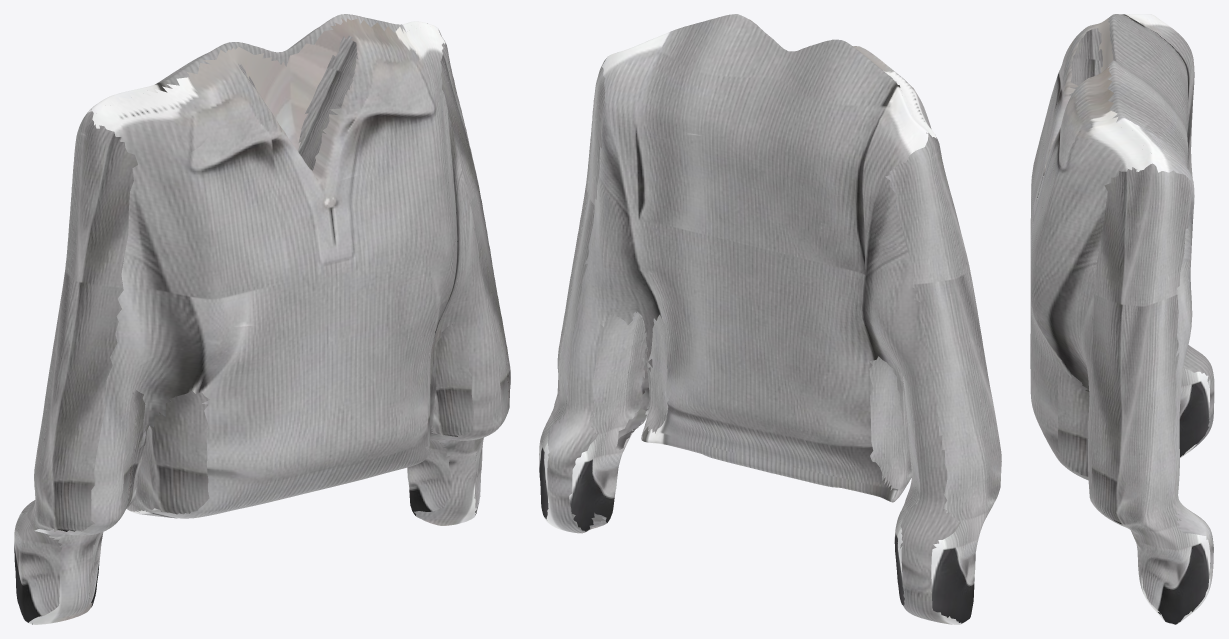
The model's file is NF012-fit-v5.glb.
The picture shows the model from 3 angles, left to right: view 1: azimuth 30°, elevation 25°; view 2: azimuth 150°, elevation 25°; view 3: azimuth 270°, elevation 25°; orthographic projection. The views are drawn at different scales.
Parts seen in each view (by area): view 1: NF012_worn_photo_fitted; view 2: NF012_worn_photo_fitted; view 3: NF012_worn_photo_fitted.
Boxes of the visible parts, <box> form: NF012_worn_photo_fitted: <box>14,14,510,624</box>; NF012_worn_photo_fitted: <box>539,14,1001,624</box>; NF012_worn_photo_fitted: <box>1030,14,1214,624</box>.
Bounding box in the file's own units: 0.5552 × 0.6386 × 0.216.
Materials: 3 (3 with a texture image).
